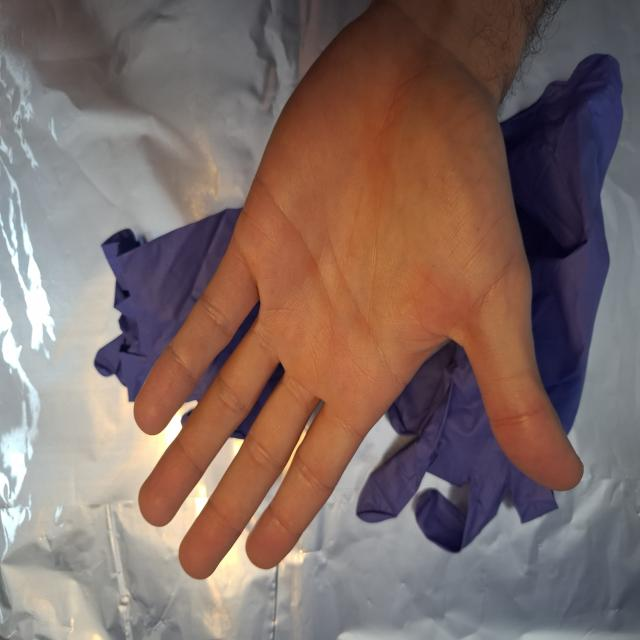glove_off: (131, 4, 587, 582)
